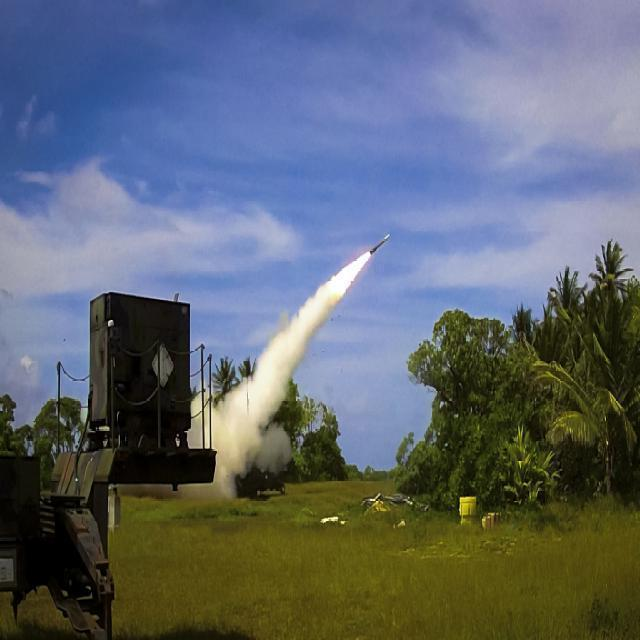missile: (366, 231, 394, 262)
